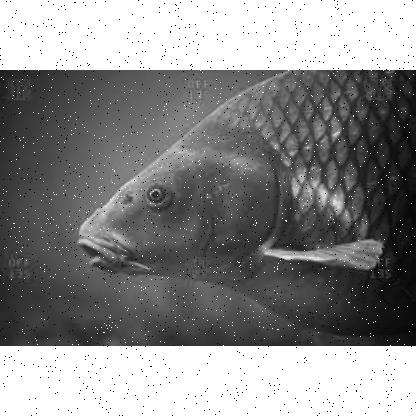ikan-mas: (75, 70, 416, 334)
